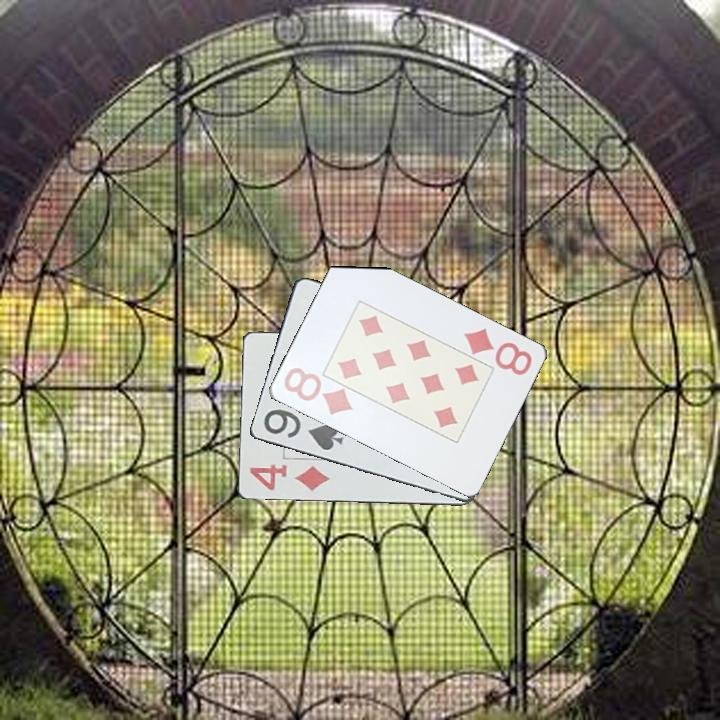4d: (246, 461, 333, 495)
8d: (280, 363, 355, 418), (459, 325, 534, 379)
9s: (259, 406, 346, 454)
